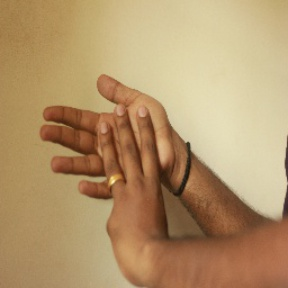M: (38, 70, 180, 231)
